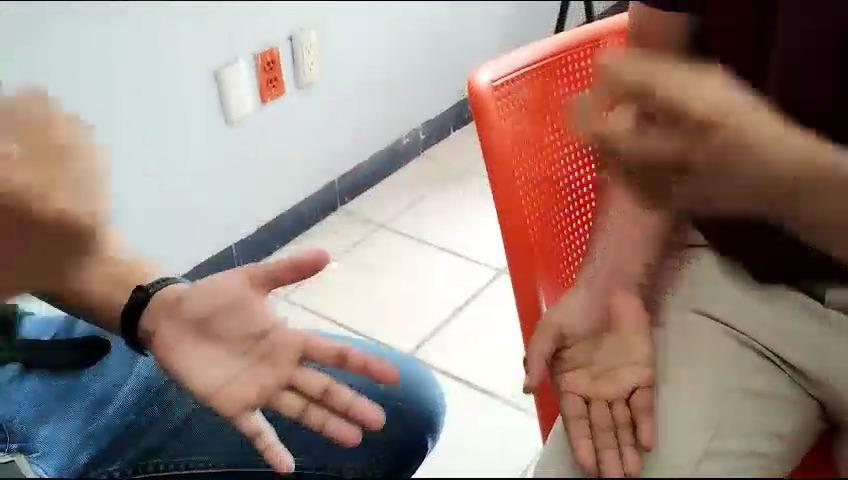Paper: (150, 241, 415, 480), (512, 263, 675, 480)
